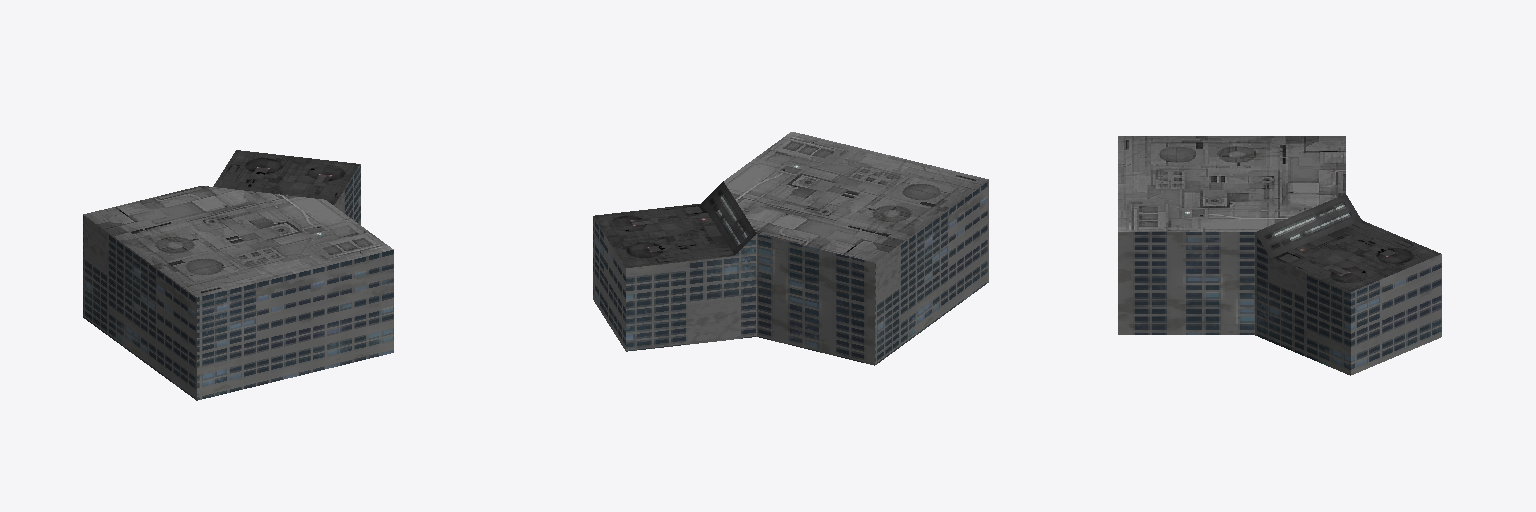
3 views of the same model, side by side, from view 1: azimuth 30°, elevation 25°; view 2: azimuth 150°, elevation 25°; view 3: azimuth 270°, elevation 25° (orthographic).
Parts seen in each view (by area): view 1: building_33; view 2: building_33; view 3: building_33.
Part boxes in pixels (bbox=[...]): building_33: bbox=[83, 150, 393, 400]; building_33: bbox=[593, 132, 988, 365]; building_33: bbox=[1118, 136, 1441, 375].
Bounding box in the file's own units: 125 × 44.12 × 125.
Materials: 1 (1 with a texture image).